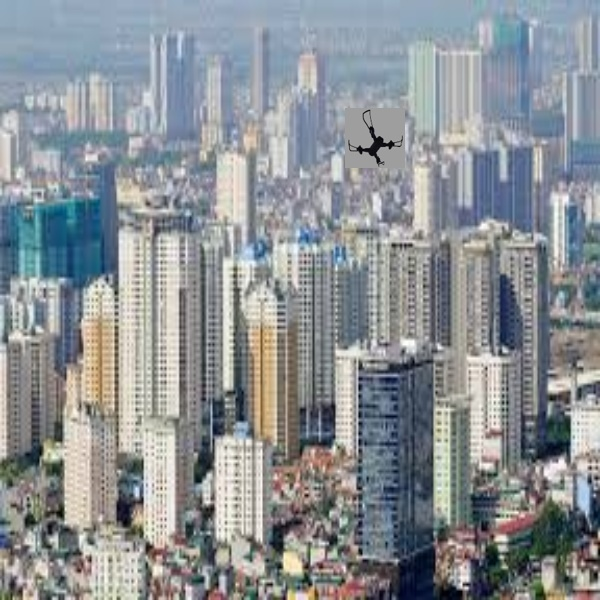drone: (342, 104, 412, 173)
